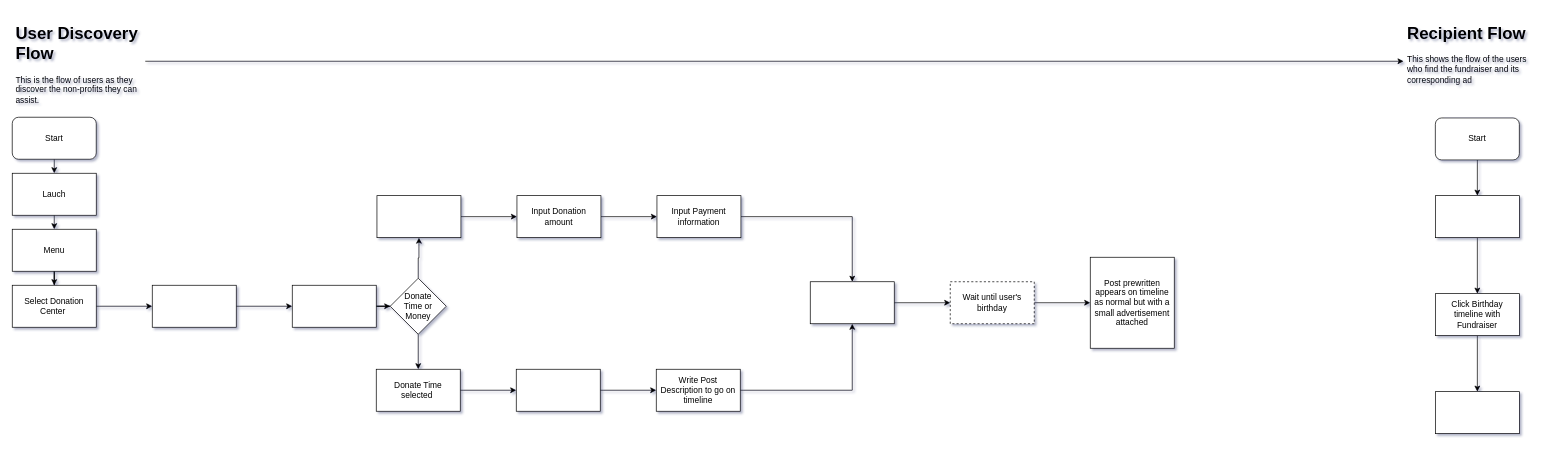
The diagram is 1553 pixels wide and 450 high, and some of its shapes have lost their labels. Here are the shapes that lost their labels. From the top down, the centre of each, then its label:
point (418, 216): Donate Money selected
point (1477, 216): Open Notifications
point (194, 306): Scroll Though Donations / Non-profits
point (334, 306): Select a nonprofit
point (852, 302): Confirmation
point (558, 390): Select # of days for the Fundraiser ( and it's corresponding add)
point (1477, 412): View fundraiser and a corresponding ad
